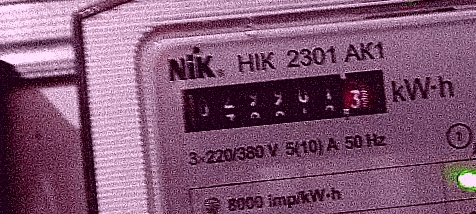0: (294, 79, 311, 105), (194, 95, 212, 118)
1: (319, 78, 334, 102)
2: (219, 90, 237, 111)
3: (347, 86, 362, 109)
9: (270, 83, 286, 107), (245, 86, 259, 109)
screen: (167, 58, 399, 143)
